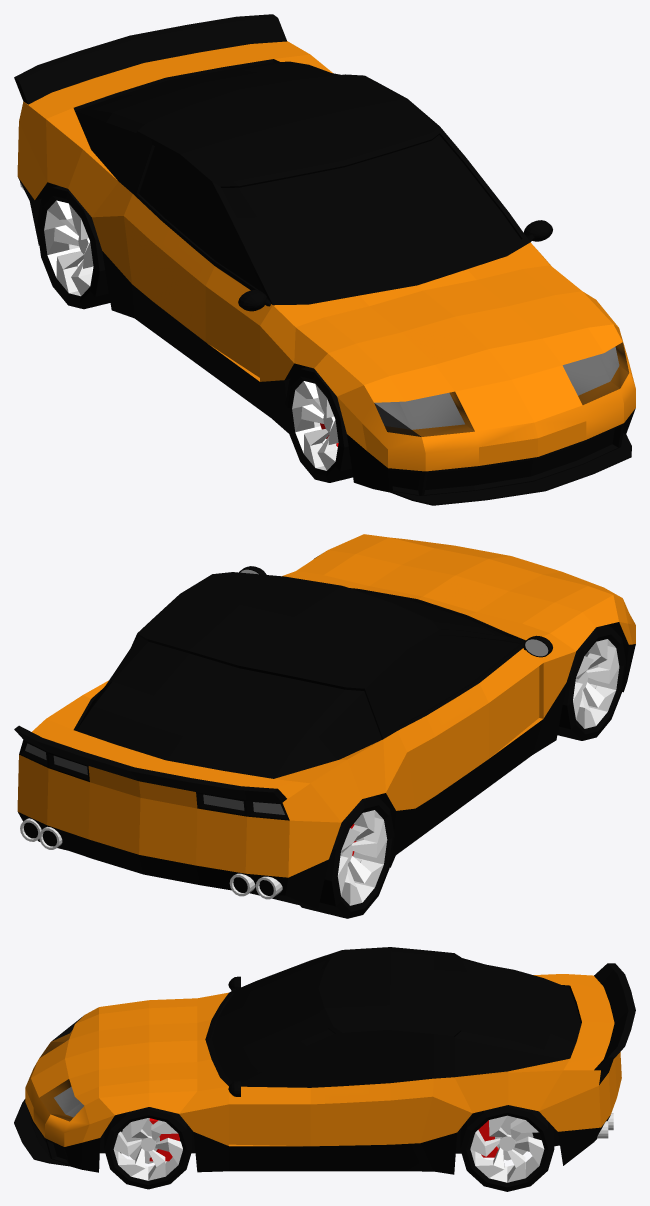
File: low poly car muscle car 2.fbx
The picture shows the model from 3 angles, top to bottom: view 1: azimuth 30°, elevation 25°; view 2: azimuth 150°, elevation 25°; view 3: azimuth 270°, elevation 25°; orthographic projection. The views are drawn at different scales.
Visible parts, largest first — view 1: Muscle car 2.Body, 5.Wheel.Bk.R, 5.Wheel.Ft.R; view 2: Muscle car 2.Body, 5.Wheel.Bk.R, 5.Wheel.Ft.R; view 3: Muscle car 2.Body, 5.Wheel.Bk.L, 5.Wheel.Ft.L.
Boxes of the visible parts, x1,y1,x2,y2 form: Muscle car 2.Body: (14,14,635,505); 5.Wheel.Bk.R: (36,186,110,309); 5.Wheel.Ft.R: (285,367,352,482); Muscle car 2.Body: (14,534,635,909); 5.Wheel.Bk.R: (300,796,394,918); 5.Wheel.Ft.R: (557,625,625,740); Muscle car 2.Body: (14,947,635,1174); 5.Wheel.Bk.L: (460,1105,554,1191); 5.Wheel.Ft.L: (104,1107,192,1189).
Bounding box in the file's own units: 135 × 85.03 × 313.
